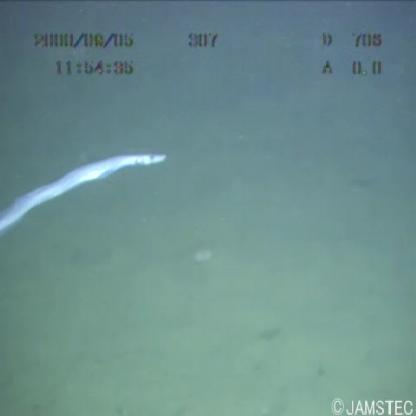Bio: (1, 144, 178, 236)
